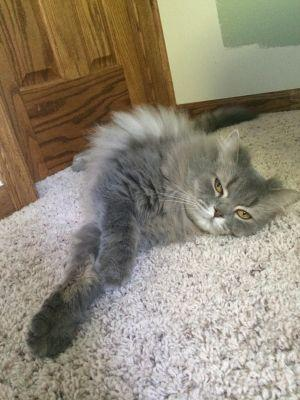persian: (172, 122, 300, 258)
